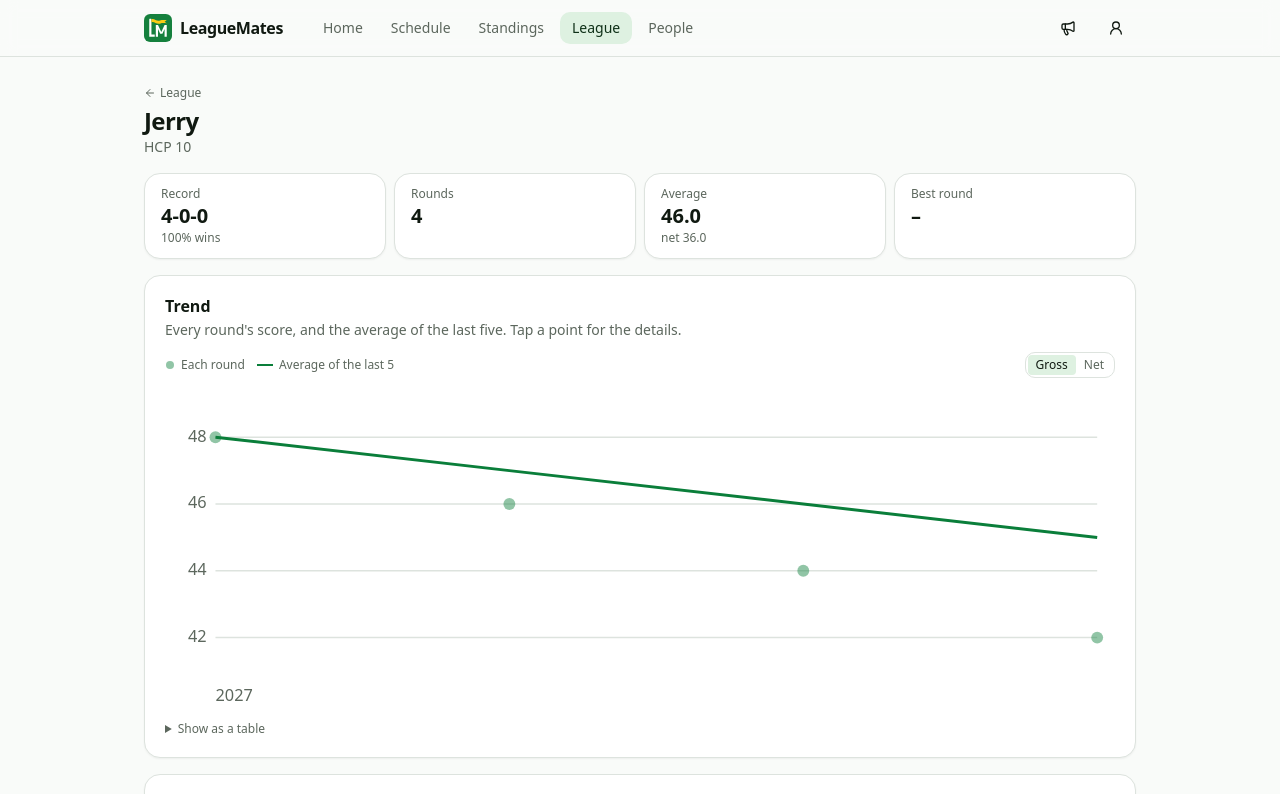
Scenario: player trend and hole by hole › charts scores over time (gross or net) and compares holes with the field
Expected: the picture named "Gross scores over 4 rounds" is shown, left=165, top=386, right=1115, bottom=713
Note: The table view lists rounds newest first, with the running average.
Click the heading "Show as a table".
click(221, 728)  # box left=178, top=720, right=265, bottom=737
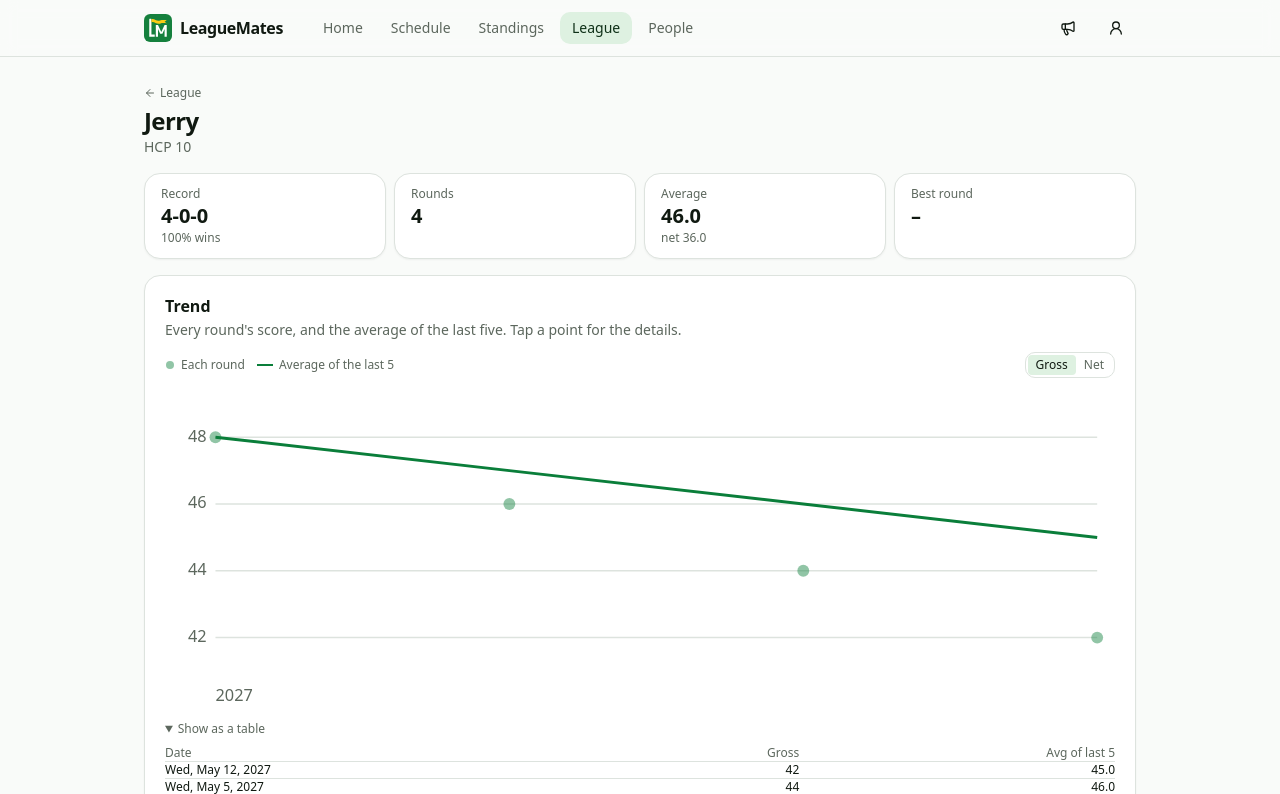
Result: the text "42" is shown at left=651, top=761, right=799, bottom=778
Result: the text "45.0" is shown at left=799, top=761, right=1115, bottom=778
Click the button "net".
click(1094, 365)  # box left=1076, top=355, right=1112, bottom=375
(page scrolled)
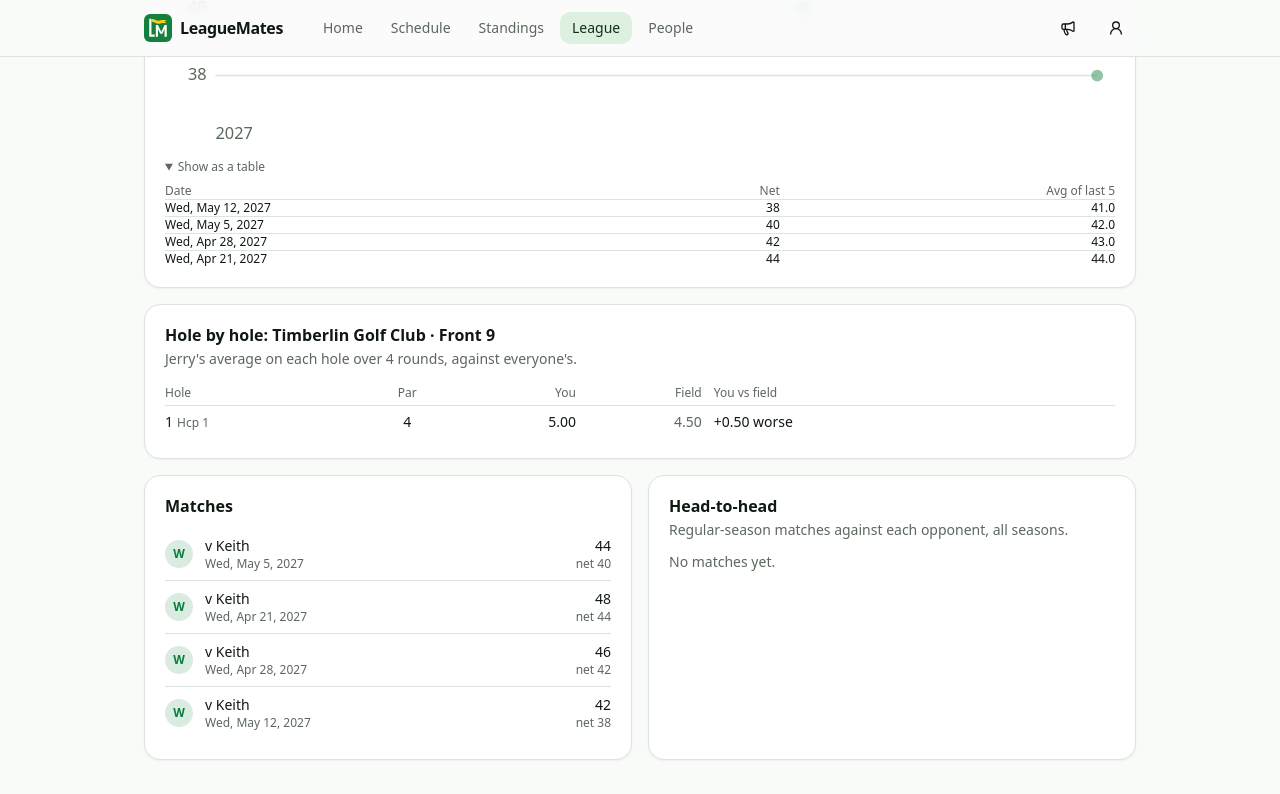
Expected: the heading "Hole by hole: Timberlin Golf Club · Front 9" is shown, left=165, top=324, right=495, bottom=346
Result: the text "38" is shown at left=681, top=199, right=780, bottom=216
